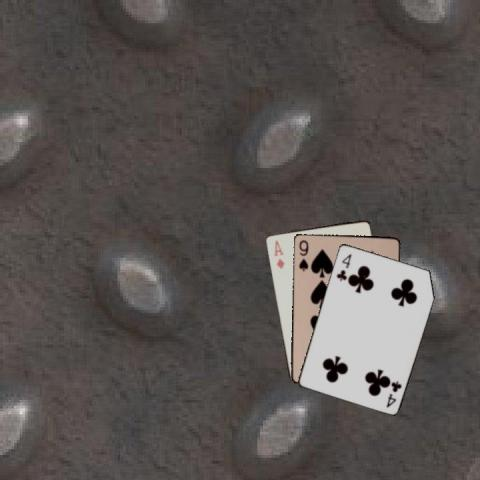4c: (333, 251, 353, 282), (383, 378, 403, 409)
9s: (296, 236, 309, 272)
Ad: (271, 237, 285, 271)
